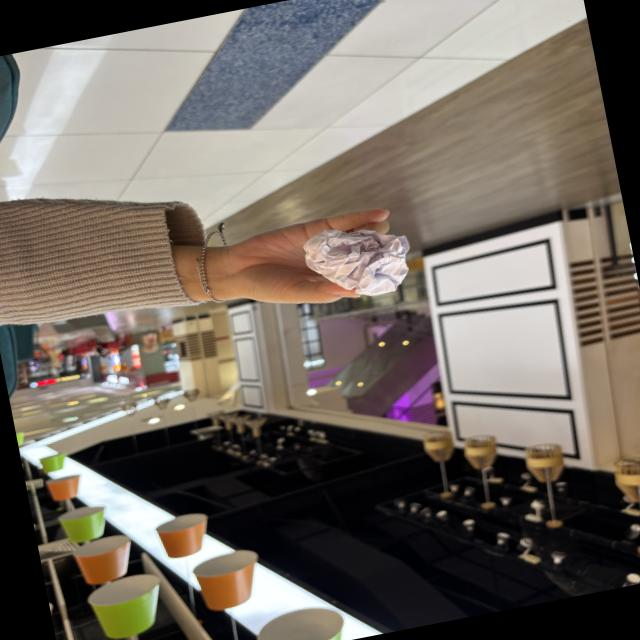crumpled_paper: (299, 215, 423, 310)
